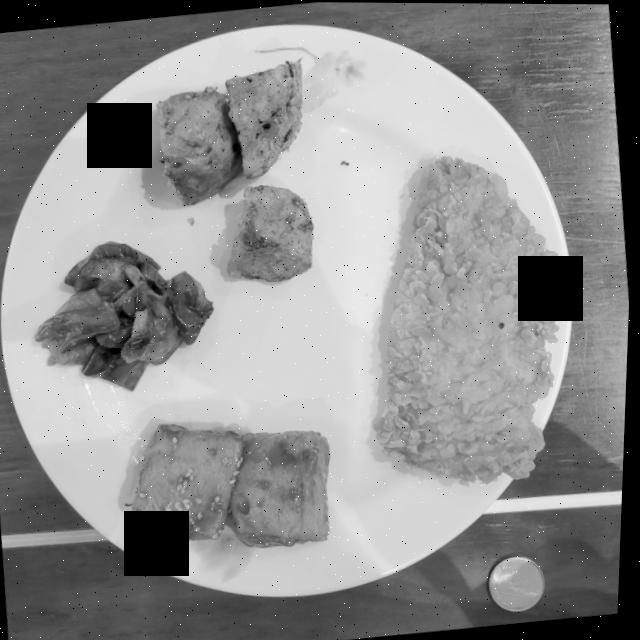coin: (493, 554, 548, 610)
creamy tofu: (134, 422, 333, 546)
fried chicken cutlet: (380, 154, 574, 483)
fried potato: (157, 59, 303, 204), (229, 183, 314, 280)
